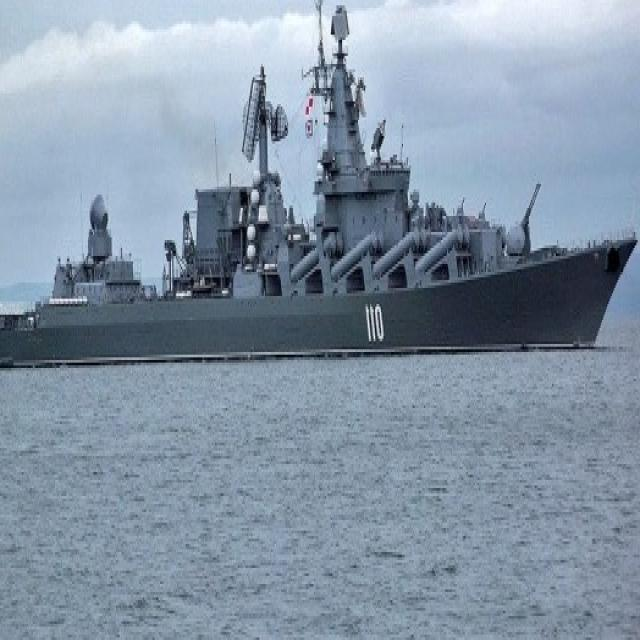navalvessels: (0, 11, 638, 392)
